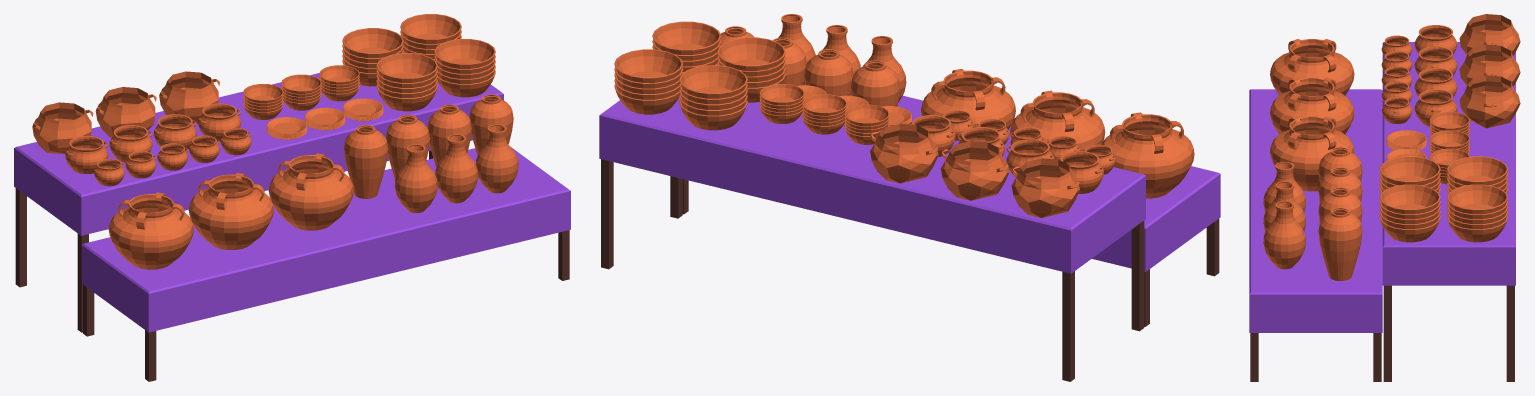
The model's file is PuestosArtesanias01.fbx.
3 views of the same model, side by side, from view 1: azimuth 30°, elevation 25°; view 2: azimuth 150°, elevation 25°; view 3: azimuth 270°, elevation 25° (orthographic). The views are drawn at different scales.
Parts seen in each view (by area): view 1: PuestoArtesanias; view 2: PuestoArtesanias; view 3: PuestoArtesanias.
Boxes of the visible parts, x1,y1,x2,y2 form: PuestoArtesanias: (14, 14, 570, 381); PuestoArtesanias: (599, 14, 1220, 381); PuestoArtesanias: (1249, 14, 1520, 381).
Size of the model in its own units: 297 by 117 by 165.
